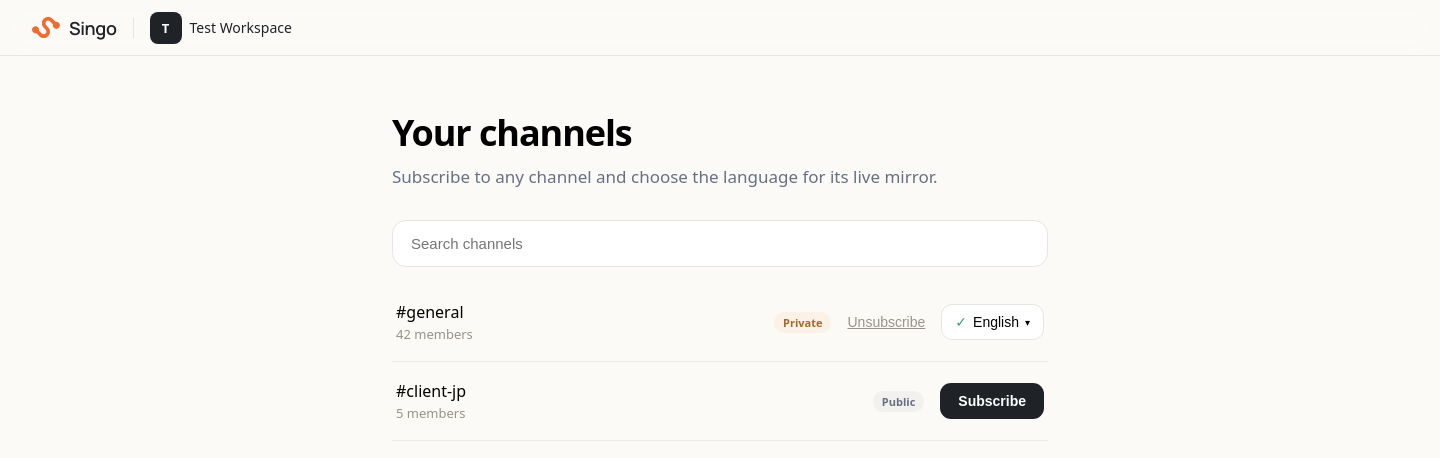
Test: Settings — channel search › filters channels by search query
Expected: the text "#client-jp" is shown, [396,380,466,402]
Type "client" into the field with placeholder "Search channels" at (720, 244), box [392,220,1048,267]
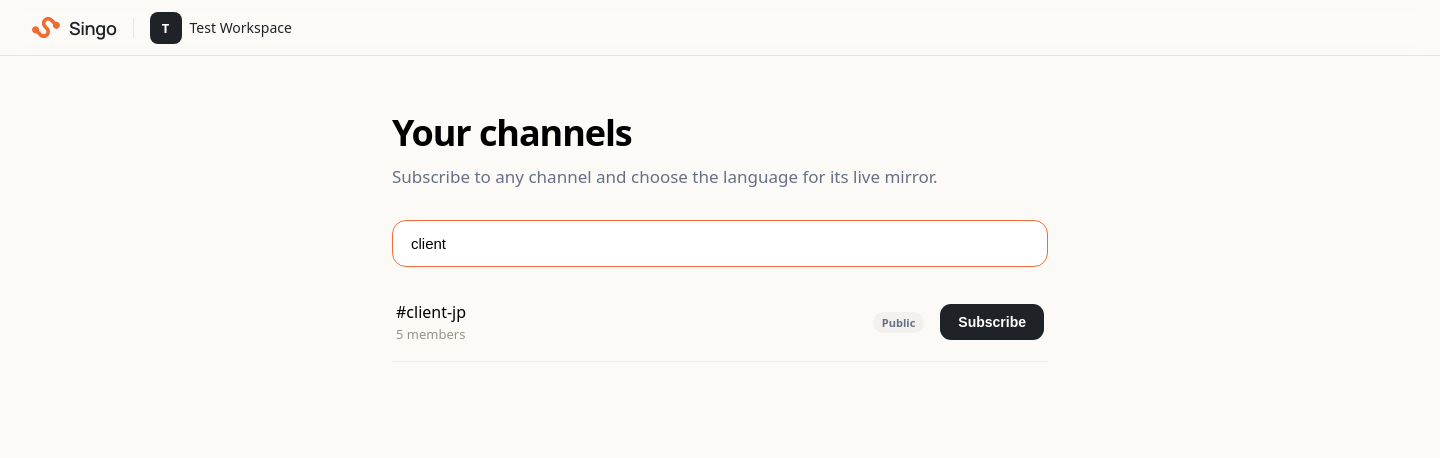
Expected: the text "#client-jp" is shown, [396,301,466,323]
Expected: the text "#general" is gone
